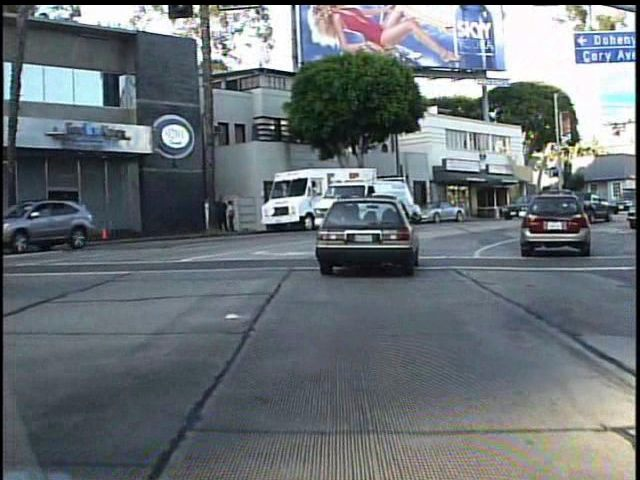person: (215, 194, 231, 234), (227, 198, 241, 235)
